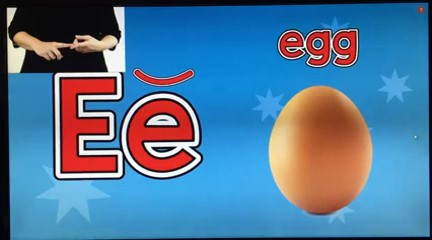E: (39, 31, 100, 61)
